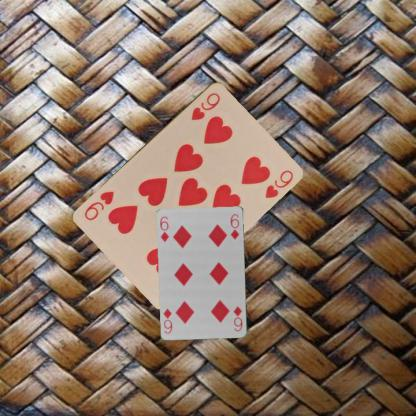6d: (231, 303, 244, 333), (158, 214, 170, 243)
9h: (188, 90, 222, 122)
